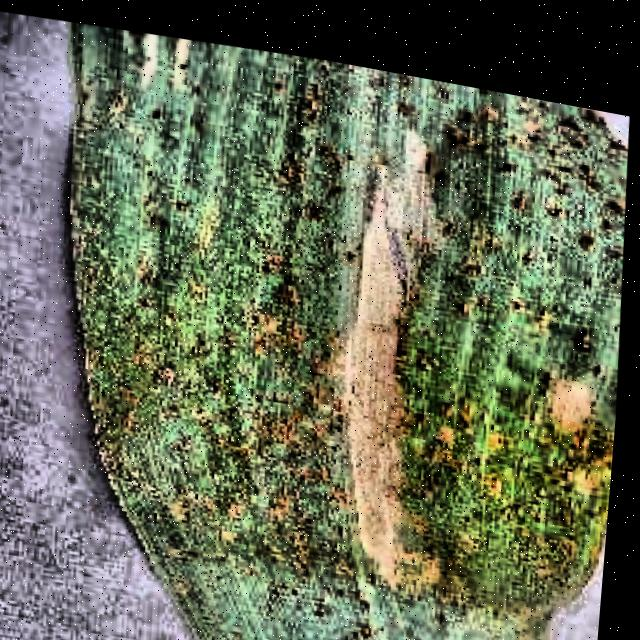blight: (27, 15, 640, 640)
